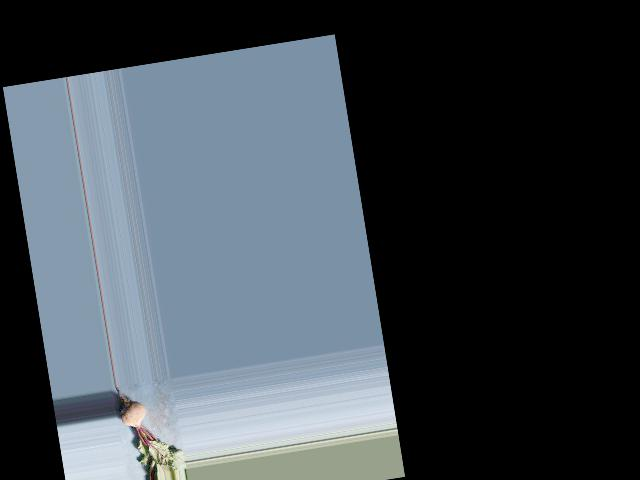beet: (115, 378, 186, 478)
